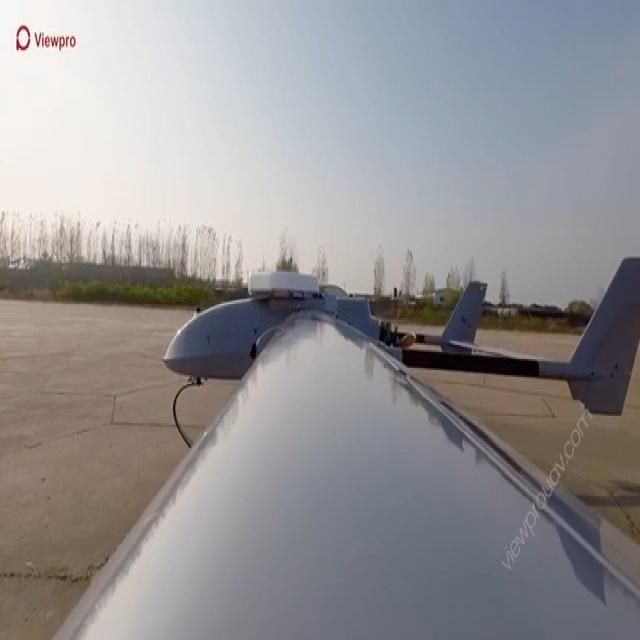drones: (158, 249, 640, 521)
